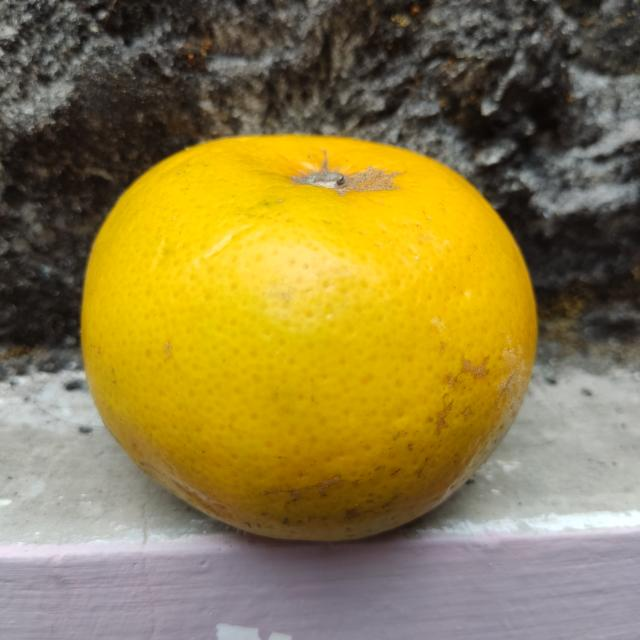orange: (77, 128, 541, 542)
